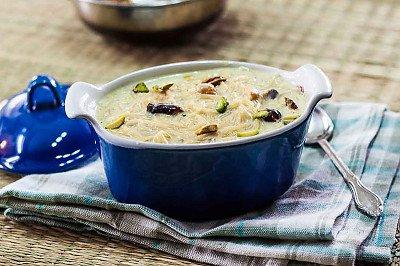kheer: (63, 62, 347, 218)
